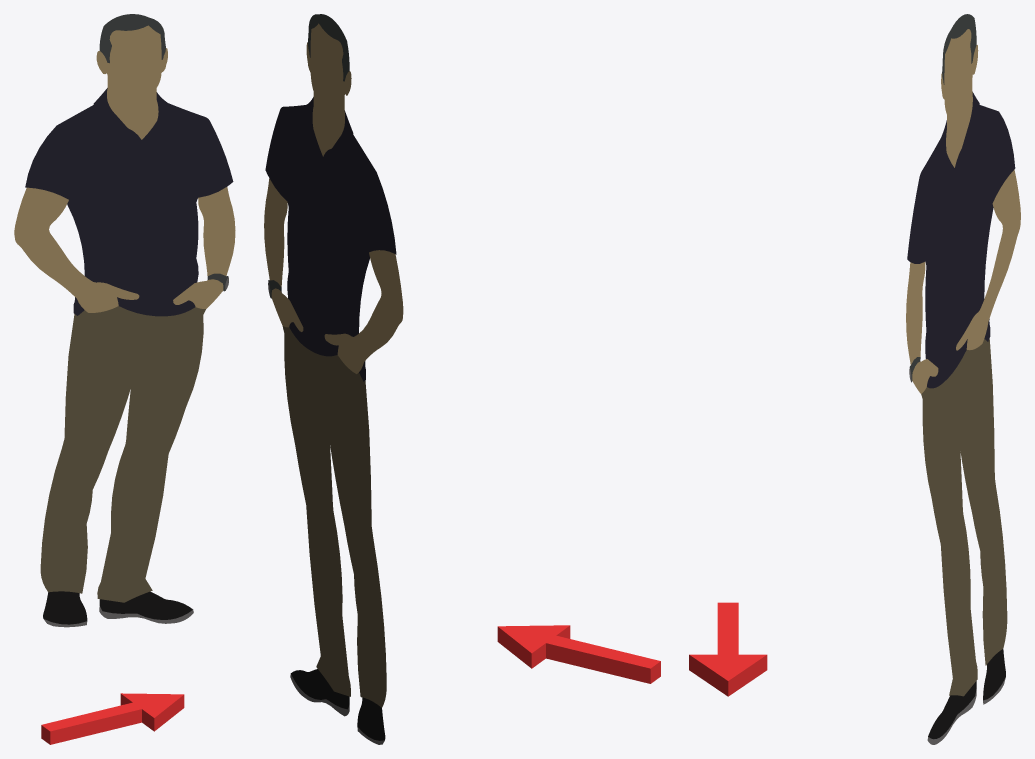
Rendered from arrow.dae.
The picture shows the model from 3 angles, left to right: view 1: azimuth 30°, elevation 25°; view 2: azimuth 150°, elevation 25°; view 3: azimuth 270°, elevation 25°; orthographic projection. The views are drawn at different scales.
Parts seen in each view (by area): view 1: Component (×11), Component1; view 2: Component (×10), Component1; view 3: Component (×10), Component1.
Part boxes in pixels (x1,y1,x2,y2): Component (×11): (14,14,235,624); Component1: (41,693,184,744); Component (×10): (264,14,403,740); Component1: (497,625,660,683); Component (×10): (906,14,1020,739); Component1: (689,602,767,696).
Size of the model in its own units: 31.69 by 29.48 by 69.5.
